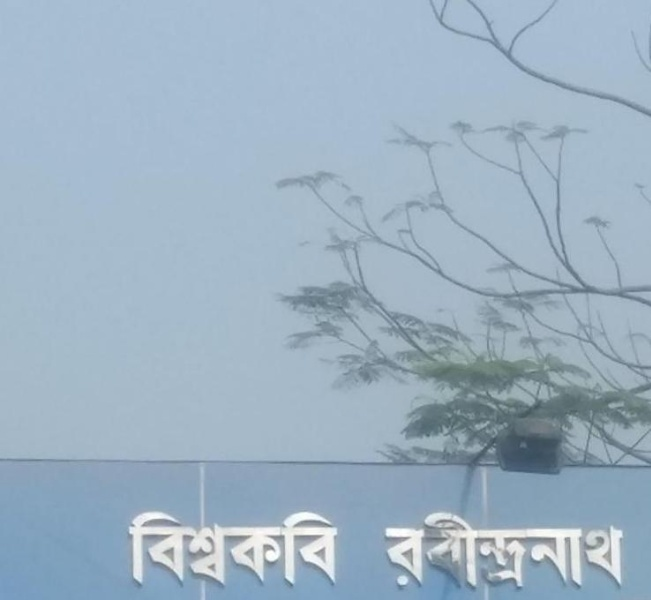text: (129, 509, 144, 590), (145, 509, 160, 590), (161, 509, 176, 590), (177, 509, 192, 590), (193, 509, 208, 590), (209, 509, 224, 590), (225, 509, 240, 590), (241, 509, 256, 590), (257, 509, 272, 590), (273, 509, 288, 590), (289, 509, 304, 590), (305, 509, 320, 590), (321, 509, 336, 590), (385, 510, 400, 591), (401, 510, 416, 591), (417, 510, 432, 591), (433, 510, 448, 591), (449, 510, 464, 591), (465, 510, 480, 591), (481, 510, 496, 591), (497, 510, 512, 591), (513, 510, 528, 591), (529, 510, 544, 591), (545, 510, 560, 591), (561, 510, 576, 591), (577, 510, 592, 591), (593, 510, 608, 591), (609, 510, 624, 591), (337, 509, 340, 590), (625, 510, 628, 591)
